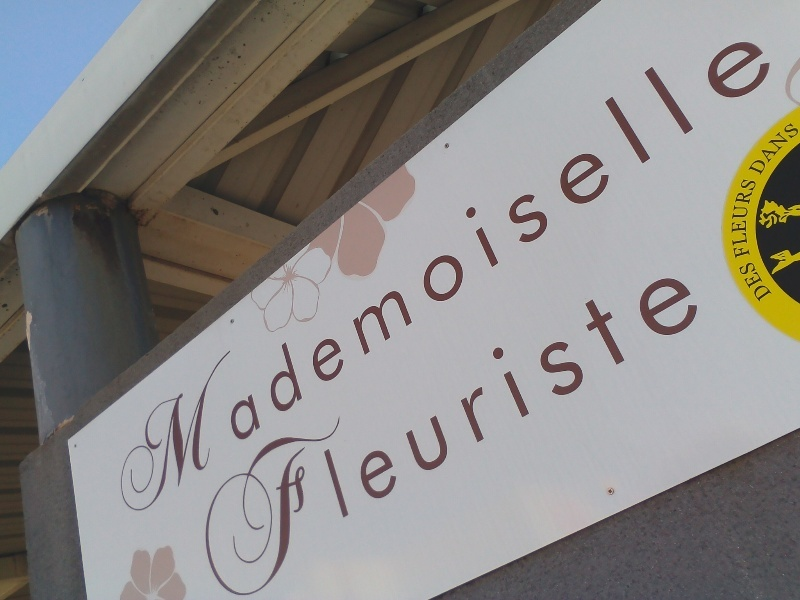text: (113, 14, 128, 533), (129, 14, 144, 533), (145, 14, 160, 533), (161, 14, 176, 533), (177, 14, 192, 533), (193, 14, 208, 533), (209, 14, 224, 533), (225, 14, 240, 533), (241, 14, 256, 533), (257, 14, 272, 533), (273, 14, 288, 533), (289, 14, 304, 533), (305, 14, 320, 533), (321, 14, 336, 533), (337, 14, 352, 533), (353, 14, 368, 533), (369, 14, 384, 533), (385, 14, 400, 533), (401, 14, 416, 533), (417, 14, 432, 533), (433, 14, 448, 533), (449, 14, 464, 533), (465, 14, 480, 533), (481, 14, 496, 533), (497, 14, 512, 533), (513, 14, 528, 533), (529, 14, 544, 533), (545, 14, 560, 533), (561, 14, 576, 533), (577, 14, 592, 533), (593, 14, 608, 533), (609, 14, 624, 533), (625, 14, 640, 533), (641, 14, 656, 533), (657, 14, 672, 533), (673, 14, 688, 533), (689, 14, 704, 533), (705, 14, 720, 533), (721, 14, 736, 533), (737, 14, 752, 533), (753, 14, 768, 533), (769, 14, 784, 533), (289, 184, 304, 597), (305, 184, 320, 597), (321, 184, 336, 597), (337, 184, 352, 597), (353, 184, 368, 597), (369, 184, 384, 597), (385, 184, 400, 597), (401, 184, 416, 597), (417, 184, 432, 597), (433, 184, 448, 597), (449, 184, 464, 597), (465, 184, 480, 597), (481, 184, 496, 597), (497, 184, 512, 597), (513, 184, 528, 597), (529, 184, 544, 597), (545, 184, 560, 597), (561, 184, 576, 597), (577, 184, 592, 597), (593, 184, 608, 597), (609, 184, 624, 597), (625, 184, 640, 597), (641, 184, 656, 597), (657, 184, 672, 597), (673, 184, 688, 597), (689, 184, 704, 597), (705, 184, 716, 597), (109, 14, 112, 533), (737, 177, 752, 262), (785, 14, 787, 533), (753, 120, 768, 179), (769, 120, 784, 179), (785, 120, 800, 179), (753, 260, 768, 304), (745, 120, 752, 179), (753, 177, 757, 262), (734, 177, 736, 262), (769, 260, 772, 304), (751, 260, 752, 304)
